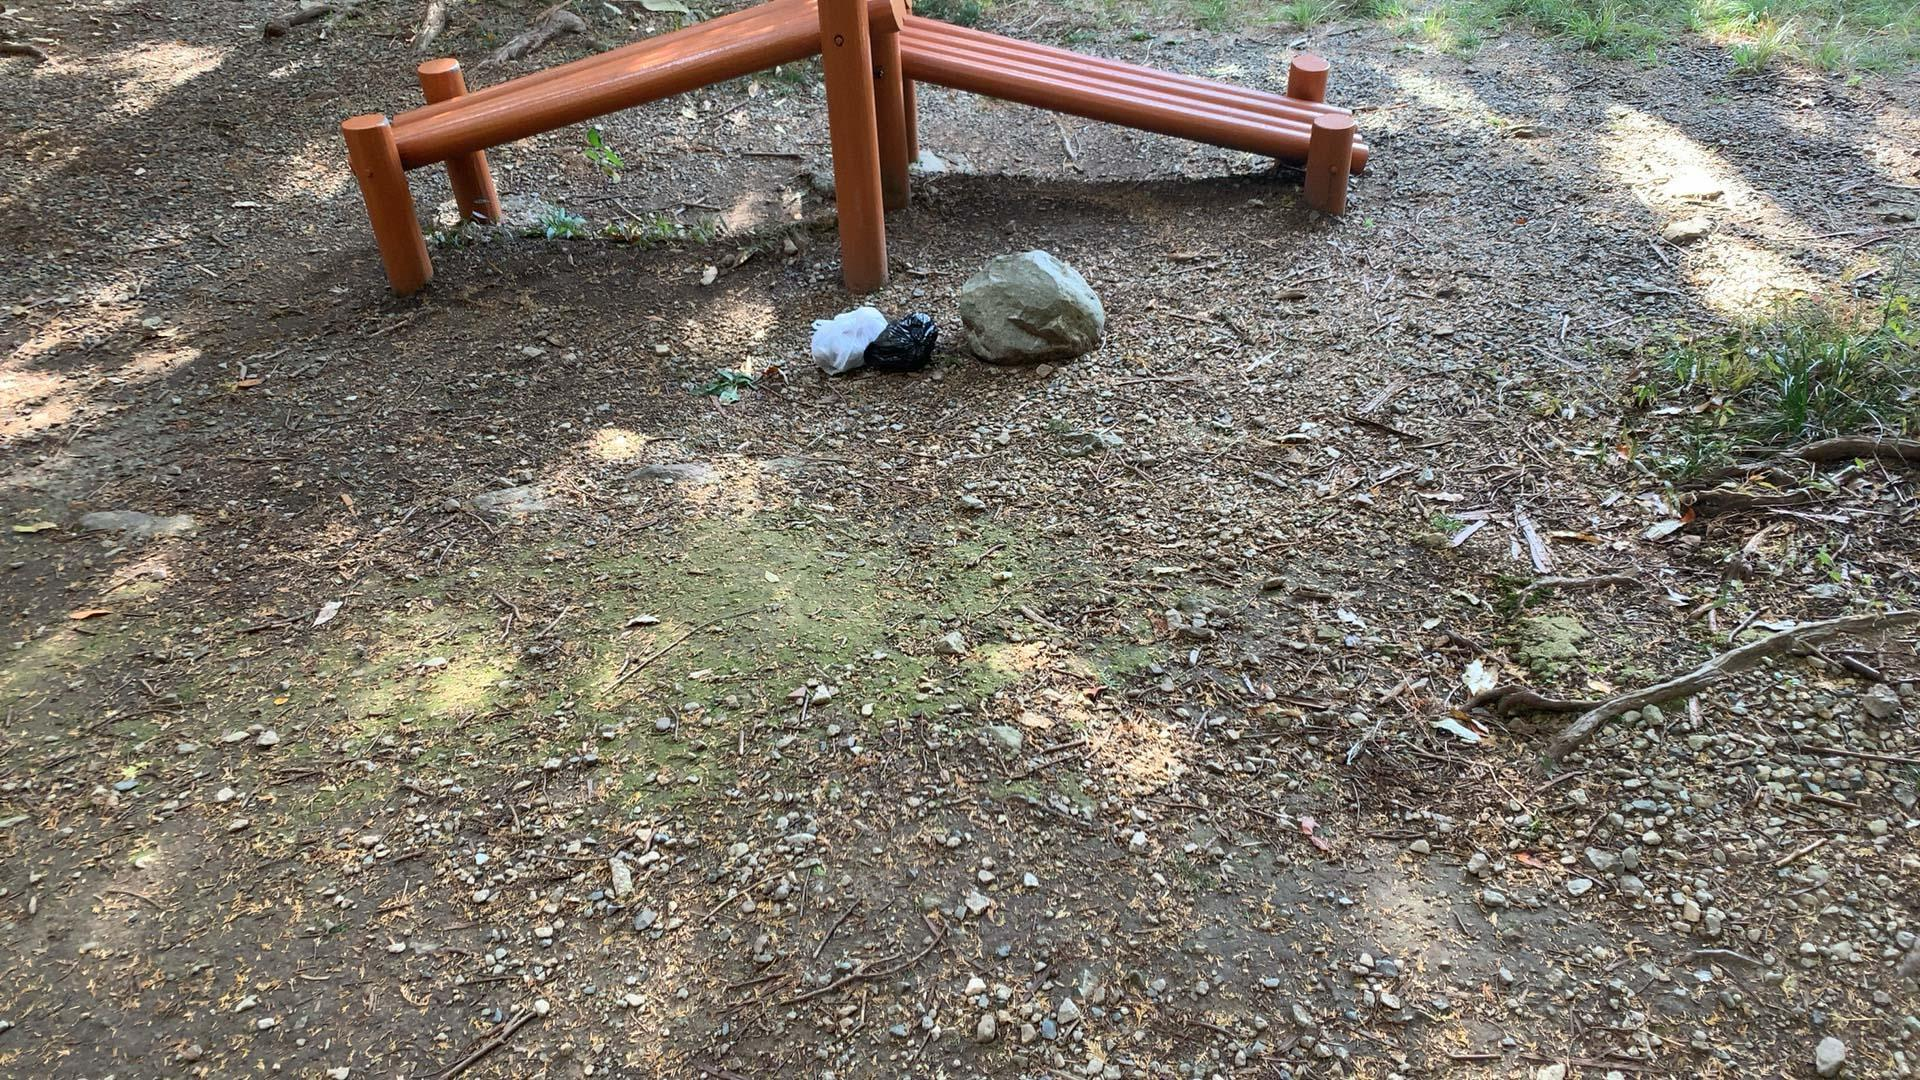black_bag: (858, 309, 940, 373)
white_bag: (799, 298, 894, 377)
